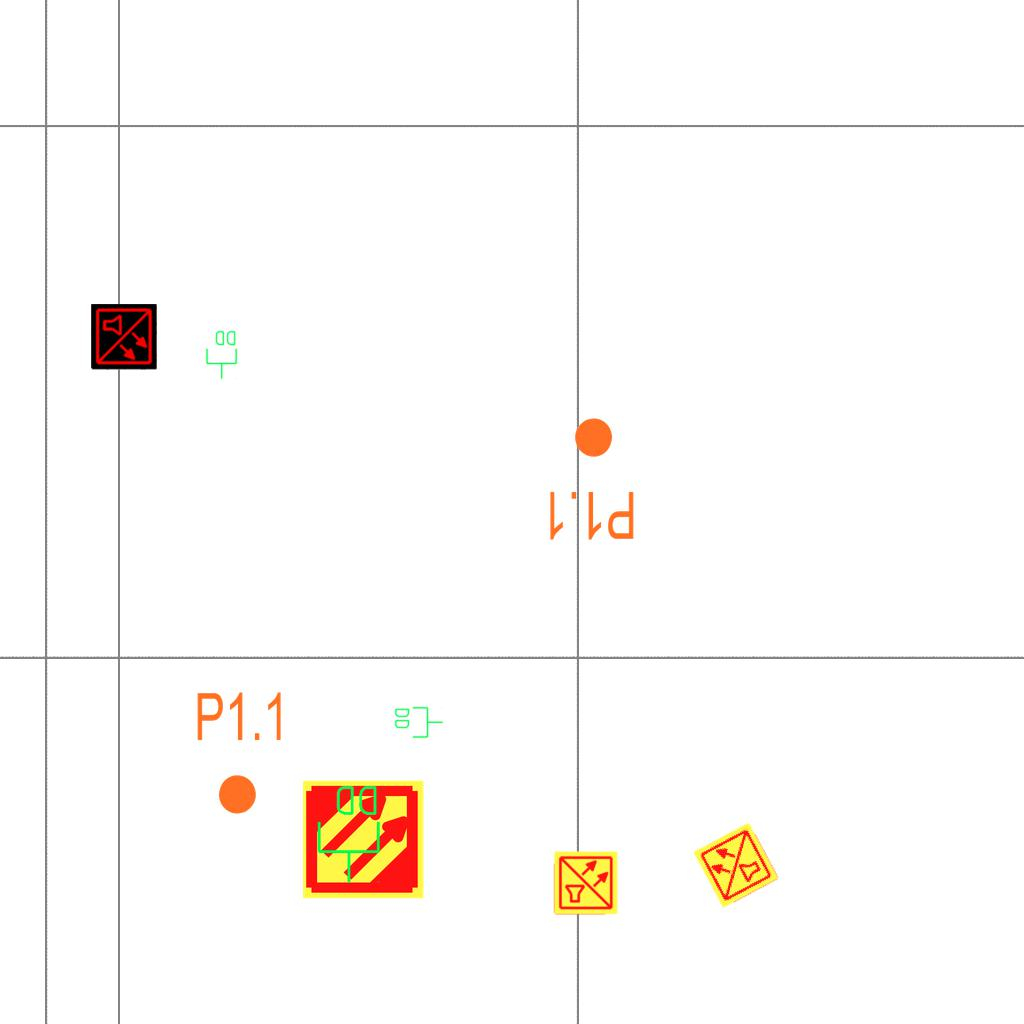ASR_Ansaugrauchmelder: (301, 777, 426, 902)
Datenanschluss_zweifach: (315, 782, 384, 885), (393, 705, 444, 739), (205, 329, 239, 380)
Downlight_LED_Einbauleuchten_Flur: (194, 689, 287, 817), (544, 415, 637, 543)
OKW_Multisensormelder_(Kombination_optischer_Rauch-Kahlenmonoxid_Waerme-Melder): (691, 820, 781, 910), (91, 304, 157, 370), (553, 850, 619, 916)
